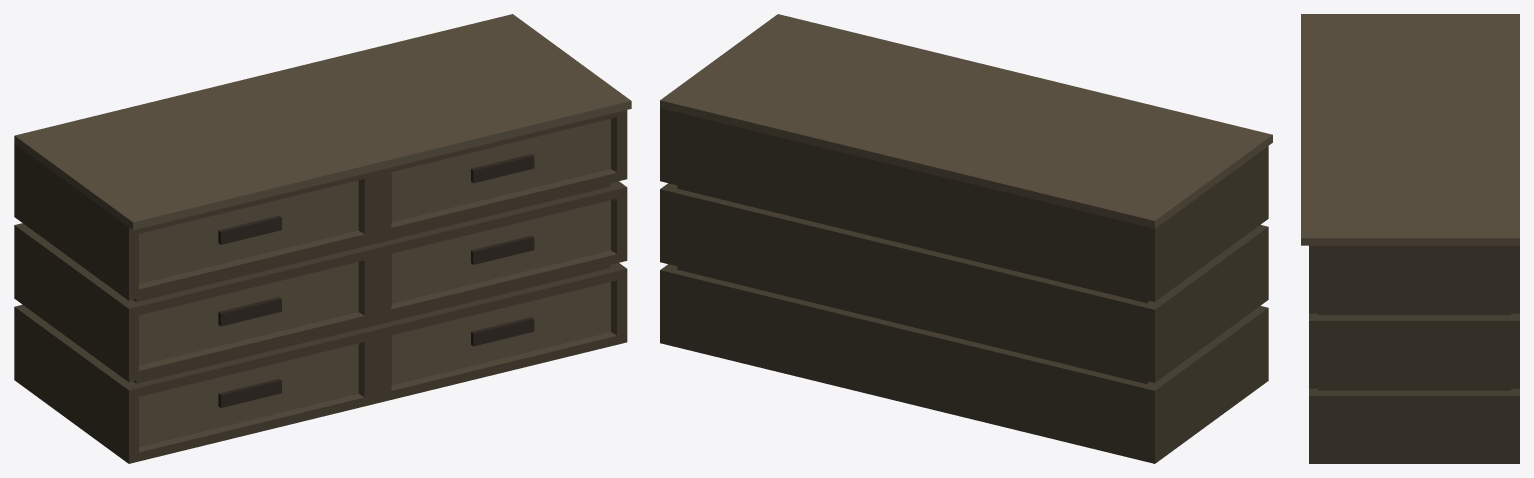
Rendered from drawer.glb.
3 renders of one model, left to right at view 1: azimuth 30°, elevation 25°; view 2: azimuth 150°, elevation 25°; view 3: azimuth 270°, elevation 25°, orthographic. The views are drawn at different scales.
Visible parts, largest first — view 1: Drawer_5; view 2: Drawer_5; view 3: Drawer_5.
Part boxes in pixels (x1,y1,x2,y2): Drawer_5: (14,14,631,463); Drawer_5: (660,14,1272,463); Drawer_5: (1301,14,1519,463).
Bounding box in the file's own units: 2.79 × 1.33 × 1.15.
